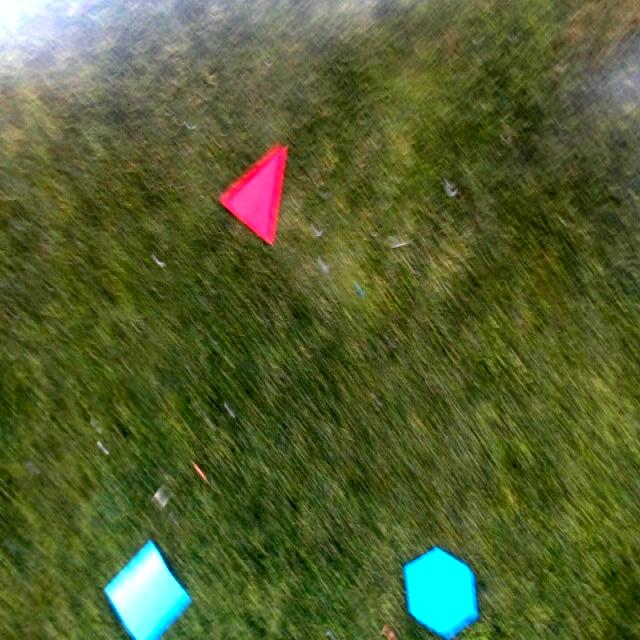blue_square: (101, 540, 191, 640)
red_triangle: (219, 144, 291, 246), (407, 548, 478, 639)
